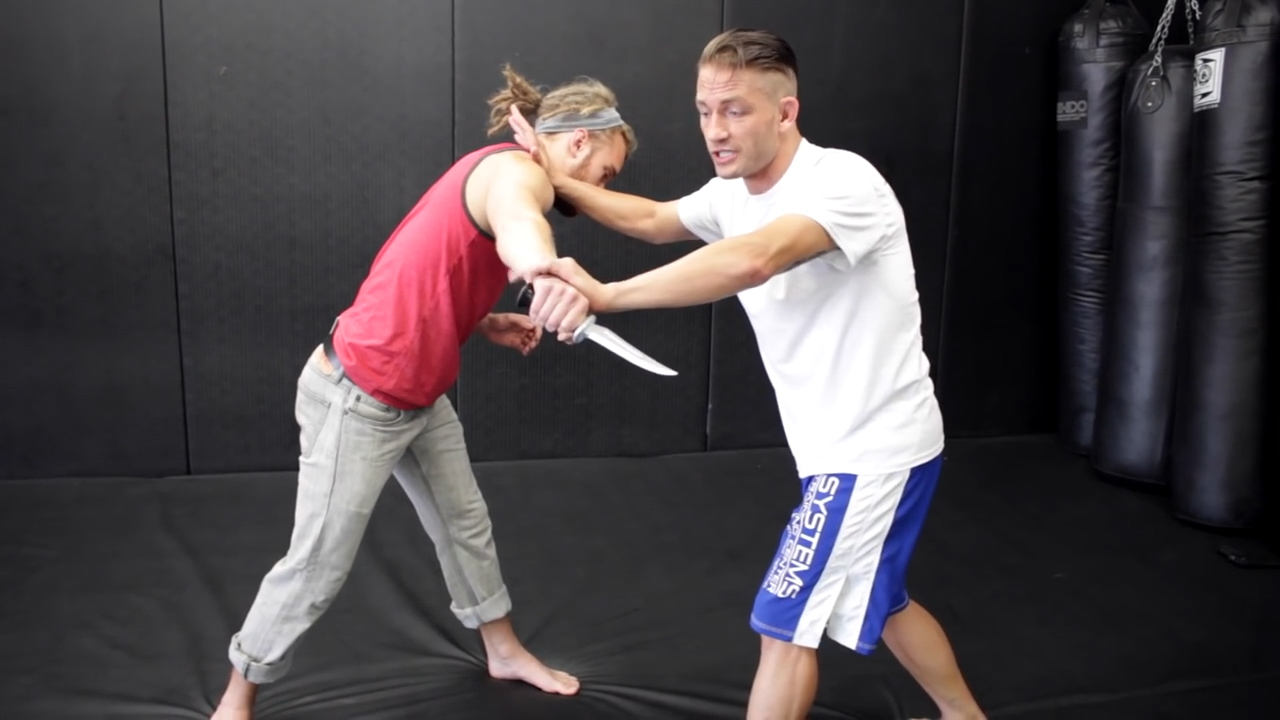knife: (509, 277, 686, 385)
